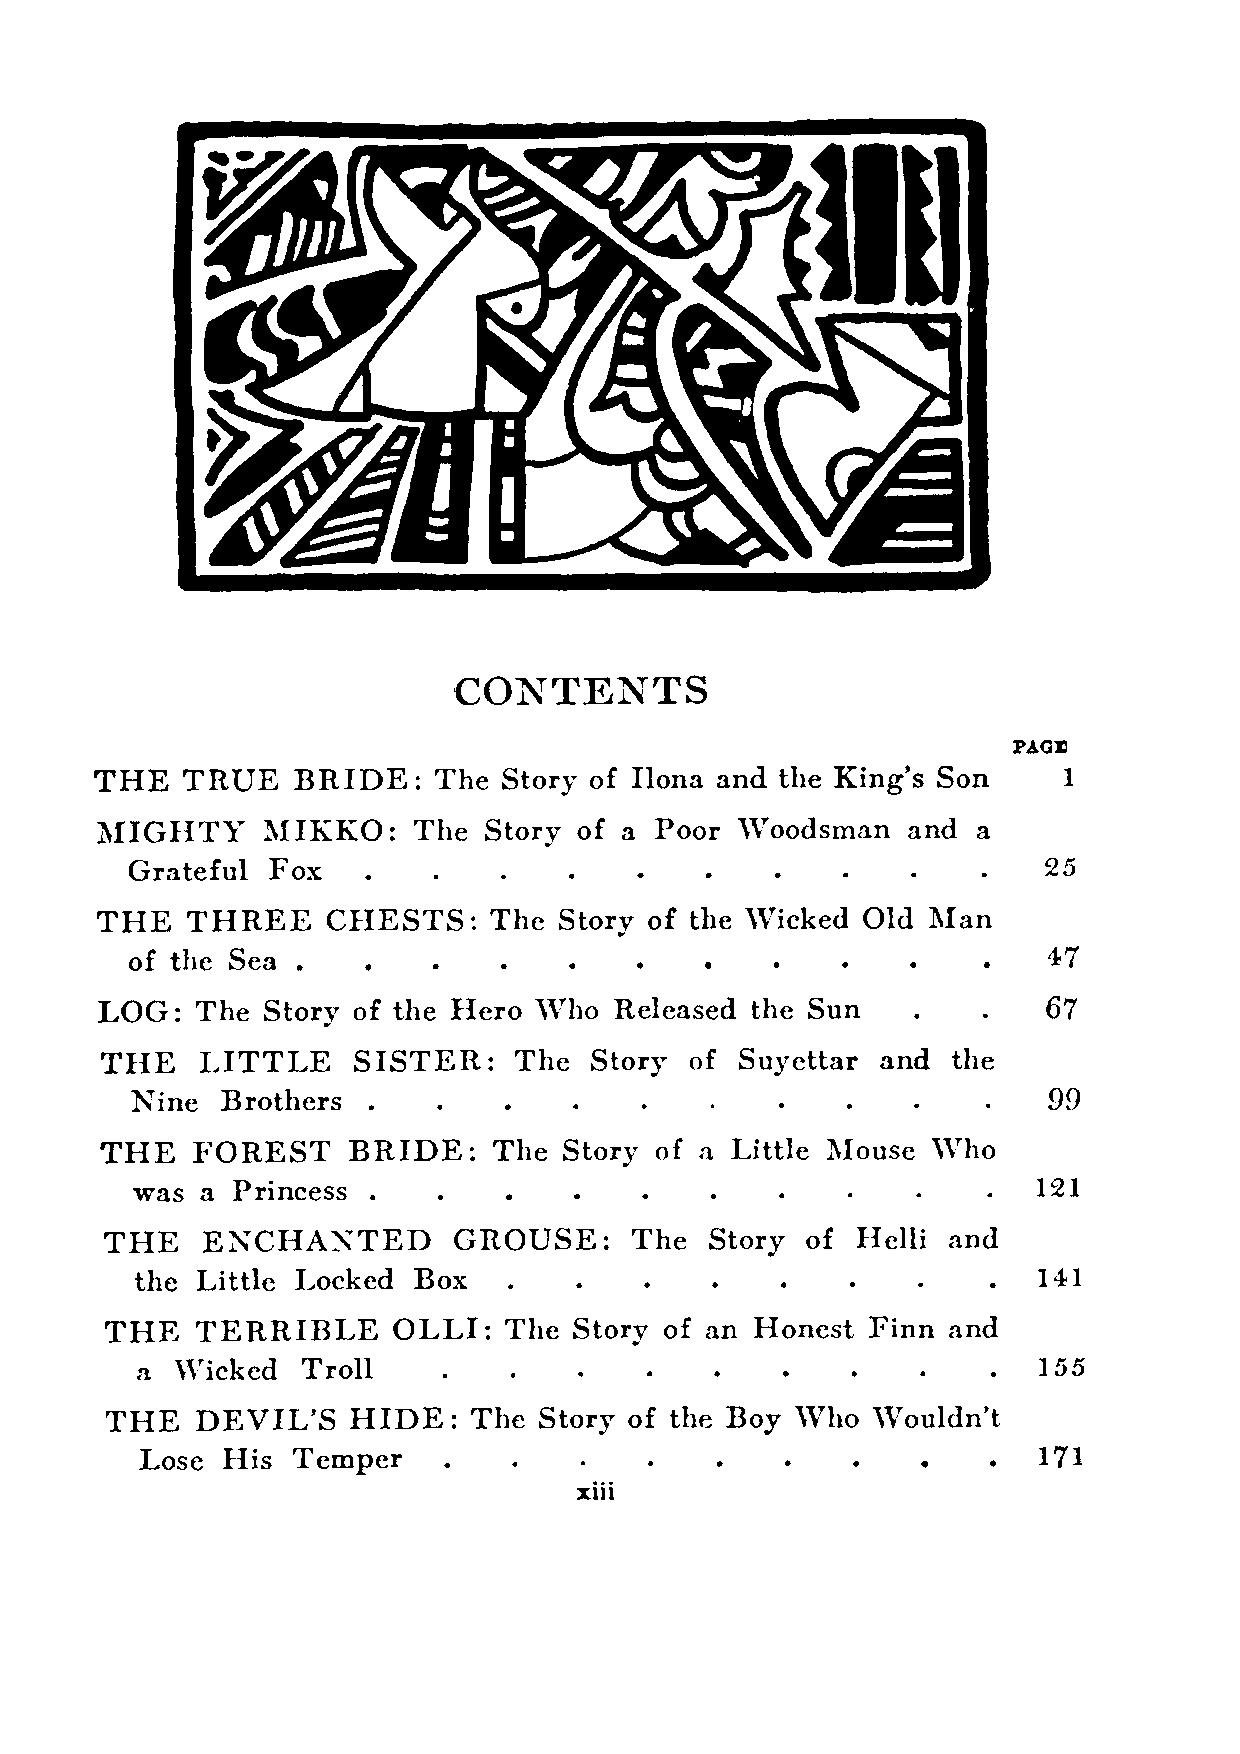TOC_chapter: (99, 1310, 1000, 1385), (94, 1043, 998, 1117), (101, 1221, 1004, 1295), (94, 1133, 994, 1204), (93, 817, 996, 884), (94, 905, 994, 972), (102, 1404, 1004, 1469), (90, 764, 997, 797), (91, 992, 874, 1025)
TOC_pagenumber: (1031, 1440, 1087, 1474), (1033, 1261, 1092, 1290), (1036, 1351, 1088, 1377), (1033, 1172, 1080, 1200), (1044, 1082, 1080, 1117), (1043, 938, 1082, 968), (1041, 849, 1078, 879), (1045, 993, 1075, 1023), (1057, 764, 1078, 792)
chapter: (452, 671, 715, 706)
content_pagenumber: (573, 1478, 621, 1504)
